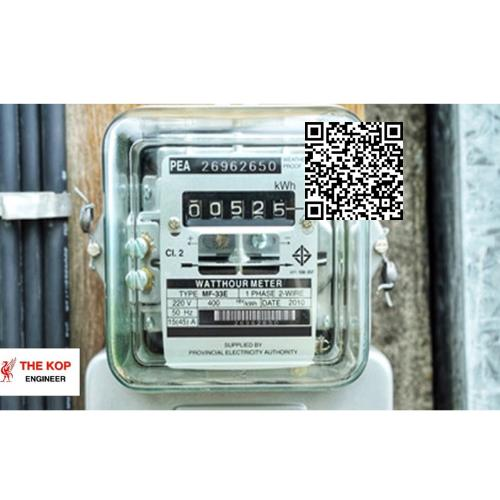qr_code: (306, 119, 404, 220)
